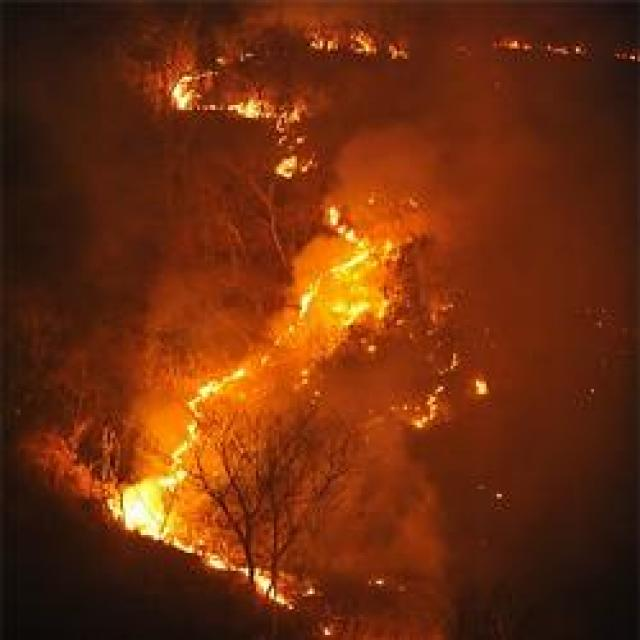fire: (317, 262, 371, 318), (118, 488, 166, 534), (180, 74, 194, 108), (202, 383, 220, 401), (242, 105, 262, 116)
smoke: (550, 283, 640, 506), (56, 131, 168, 293), (434, 117, 544, 239), (363, 484, 461, 564)
